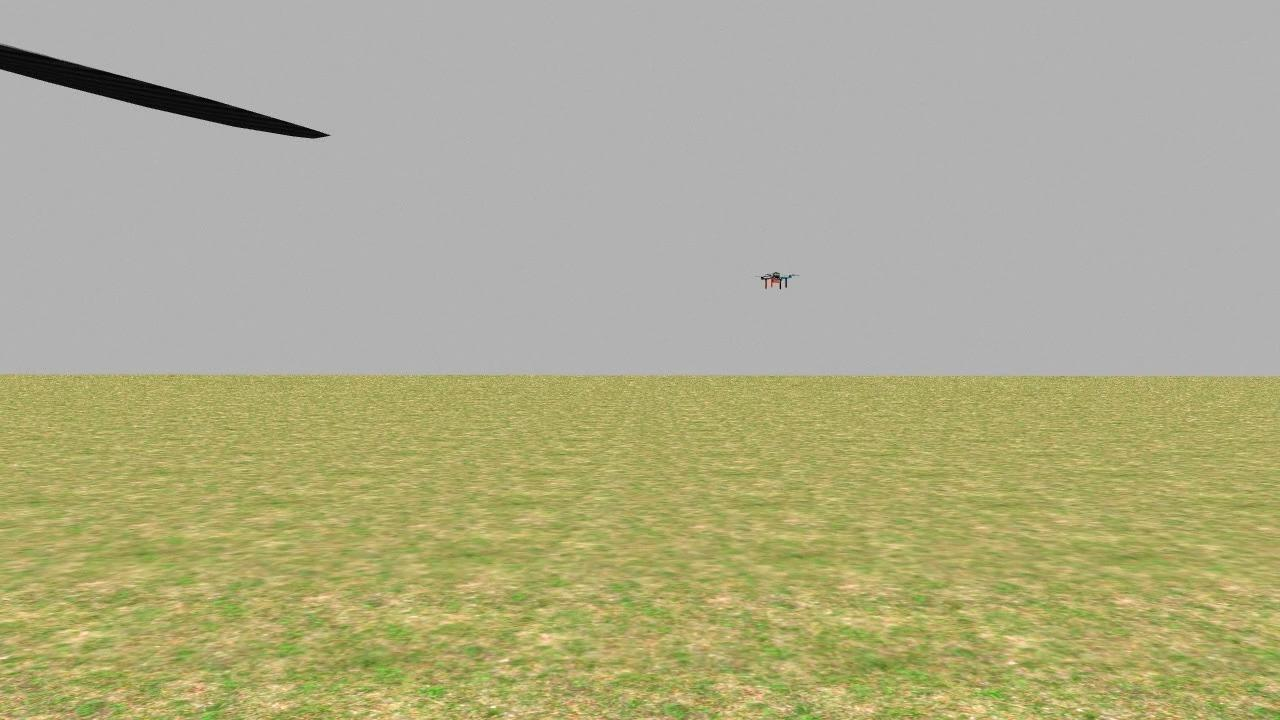UAV: (740, 251, 816, 301)
